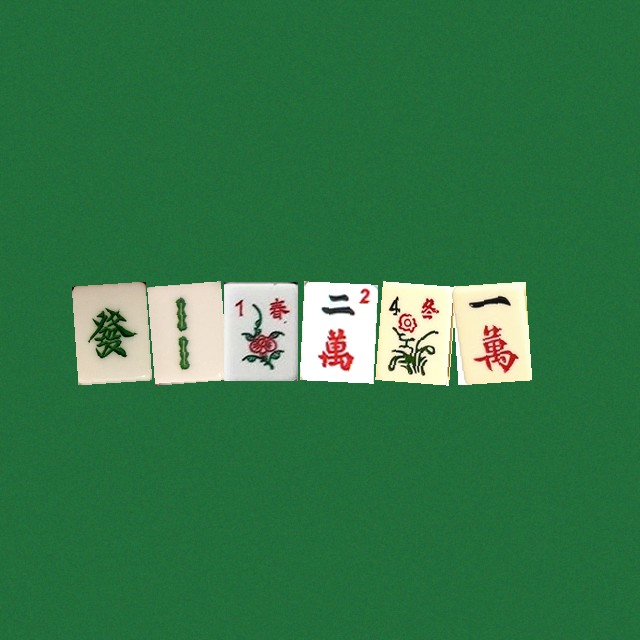tile: (71, 281, 145, 380), (147, 281, 221, 380), (223, 281, 297, 380), (299, 281, 373, 380), (375, 281, 449, 380), (451, 281, 525, 380)
